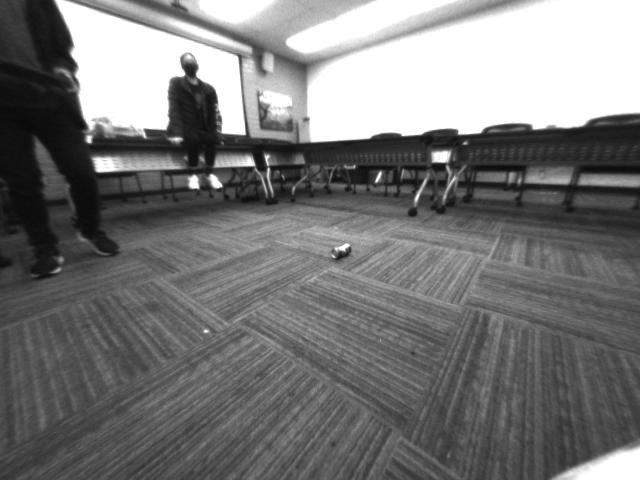can: (330, 241, 359, 267)
